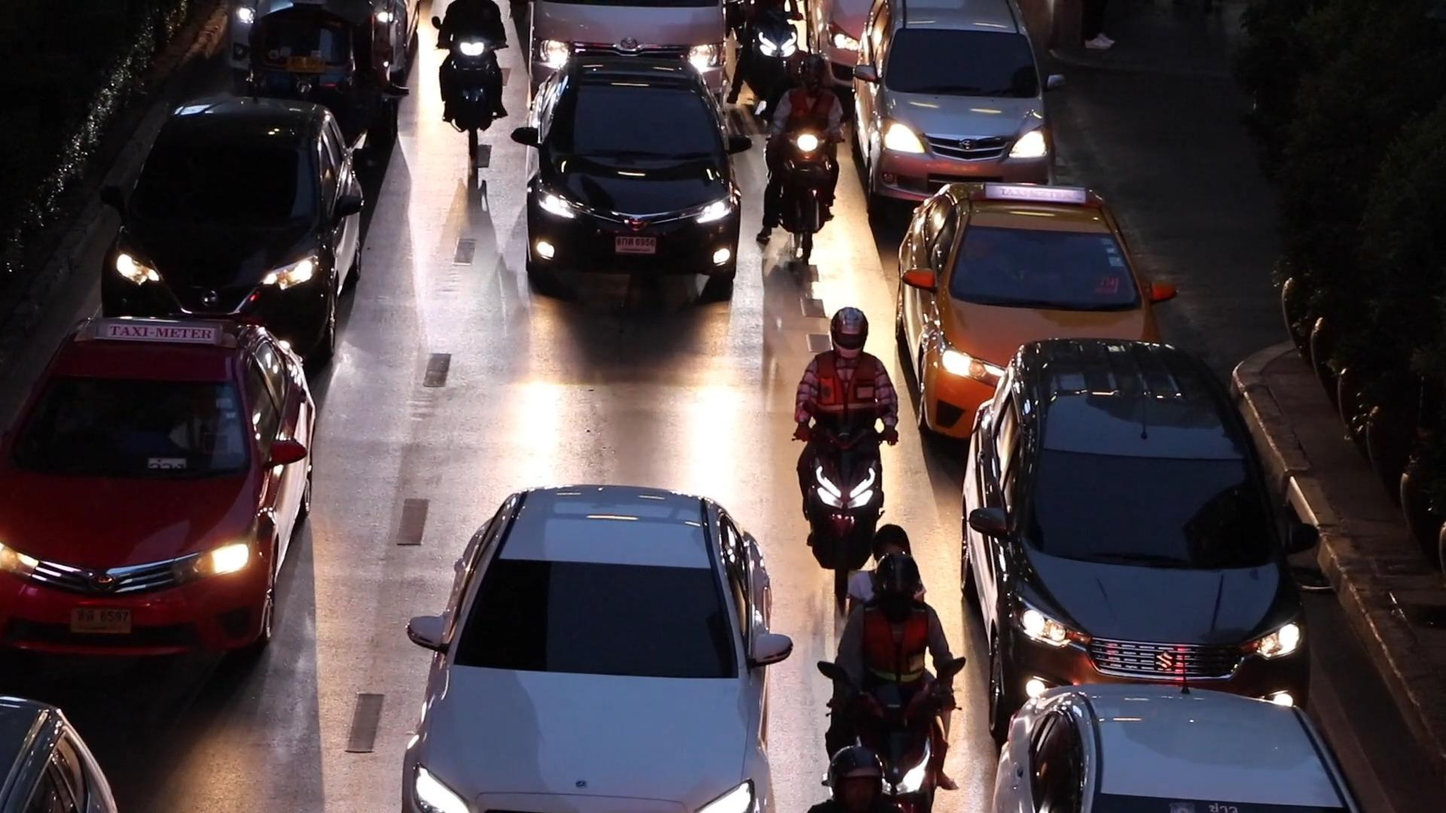driver: (817, 523, 965, 813), (791, 304, 898, 599), (756, 53, 852, 261), (431, 0, 510, 161)
helmet: (827, 745, 885, 813), (875, 551, 920, 614), (830, 306, 869, 362), (798, 54, 827, 94)
no-helmet: (873, 522, 911, 565)
